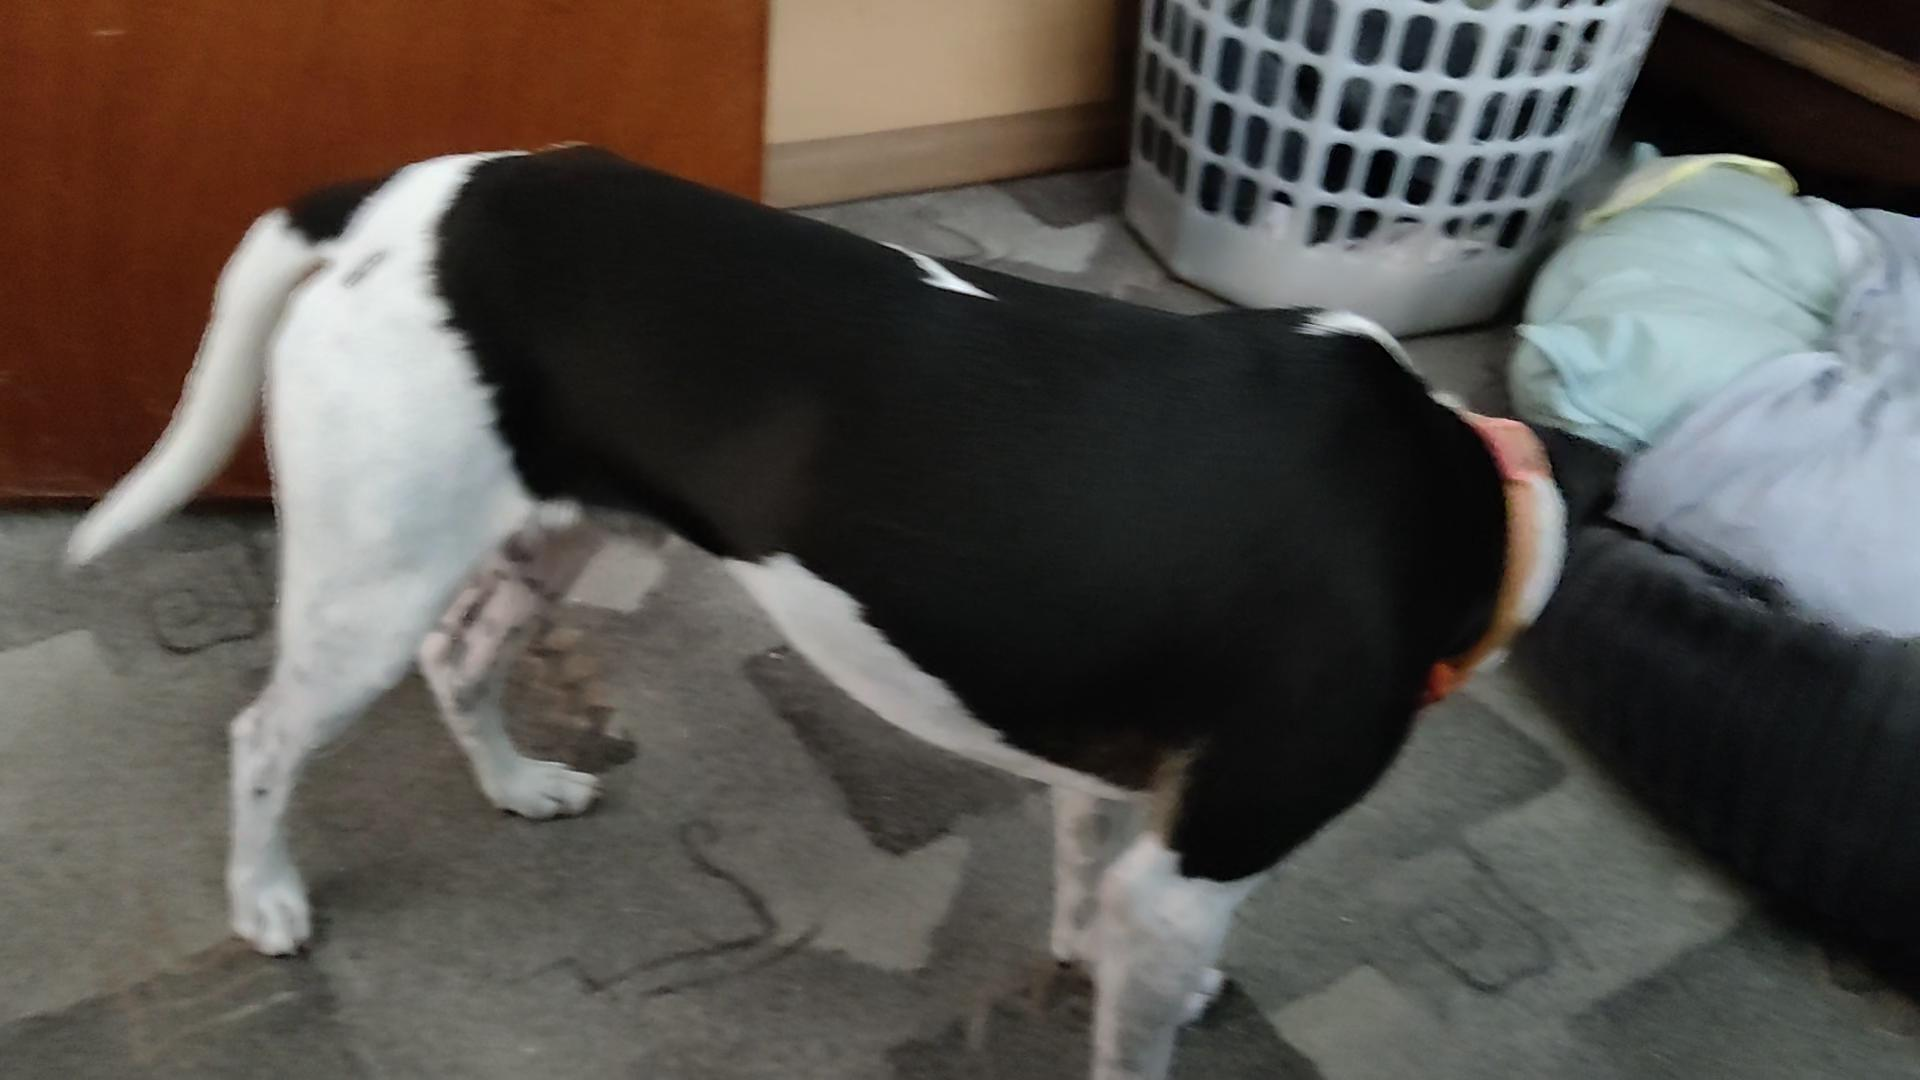Dog: (41, 94, 1642, 1079)
